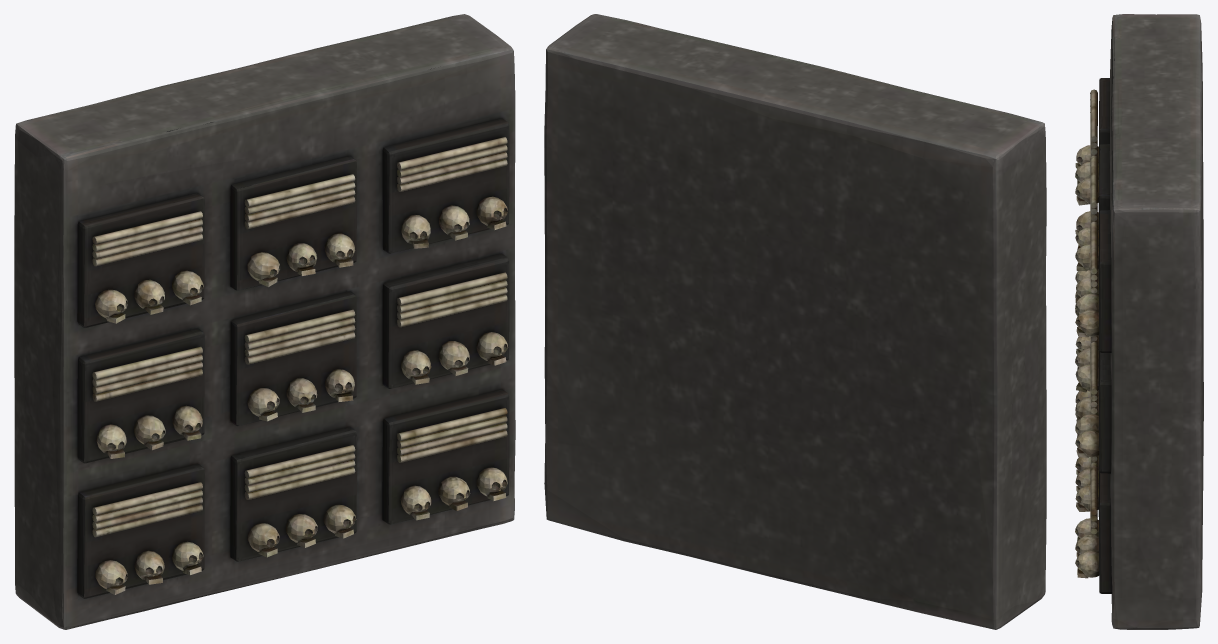
The model's file is dg_parede_ossuario.glb.
3 renders of one model, left to right at view 1: azimuth 30°, elevation 25°; view 2: azimuth 150°, elevation 25°; view 3: azimuth 270°, elevation 25°, orthographic. The views are drawn at different scales.
Visible parts, largest first — view 1: dg_parede_ossuario_tronco; view 2: dg_parede_ossuario_tronco; view 3: dg_parede_ossuario_tronco.
Boxes of the visible parts, box(x1,y1,x2,y2) form: dg_parede_ossuario_tronco: box(14, 14, 515, 629); dg_parede_ossuario_tronco: box(544, 14, 1046, 629); dg_parede_ossuario_tronco: box(1075, 14, 1203, 629).
Size of the model in its own units: 3 by 3 by 0.824.
1 material, 1 textured.
